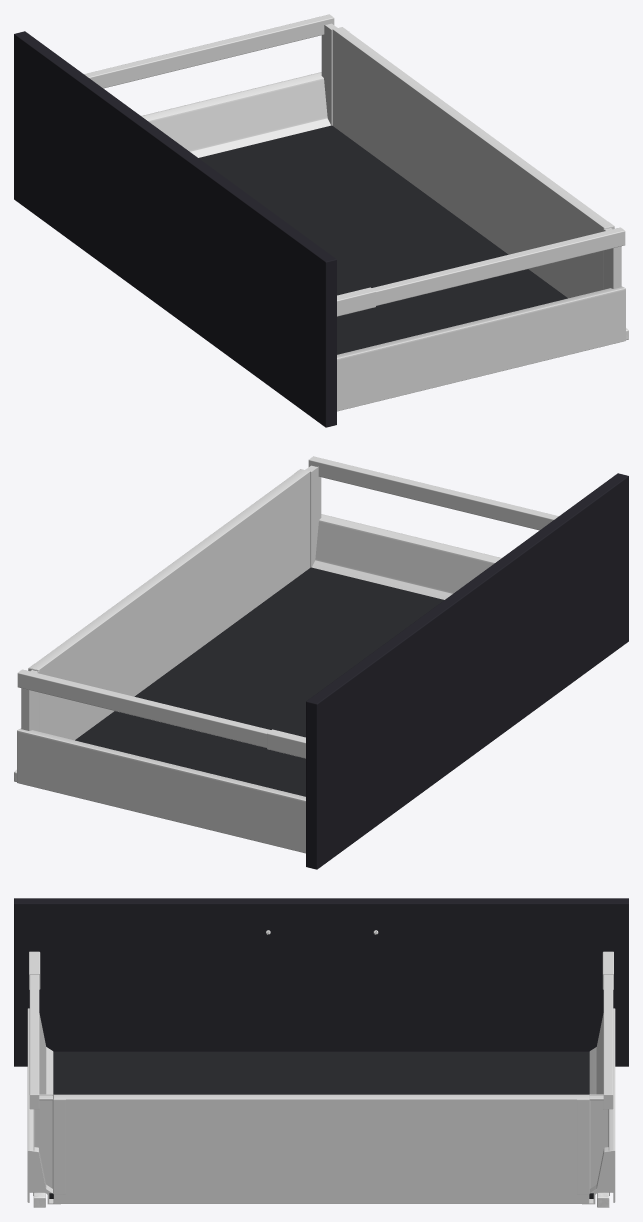
The model's file is SM_Kitchen_11_Drawer_02.dae.
3 renders of one model, top to bottom at view 1: azimuth 30°, elevation 25°; view 2: azimuth 150°, elevation 25°; view 3: azimuth 270°, elevation 25°, orthographic.
Parts seen in each view (by area): view 1: SM_Kitchen_11_Drawer_02; view 2: SM_Kitchen_11_Drawer_02; view 3: SM_Kitchen_11_Drawer_02.
Boxes of the visible parts, x1,y1,x2,y2 form: SM_Kitchen_11_Drawer_02: [14, 14, 628, 427]; SM_Kitchen_11_Drawer_02: [14, 456, 628, 869]; SM_Kitchen_11_Drawer_02: [14, 898, 628, 1207].
Bounding box in the file's own units: 0.5199 × 0.8969 × 0.263.
